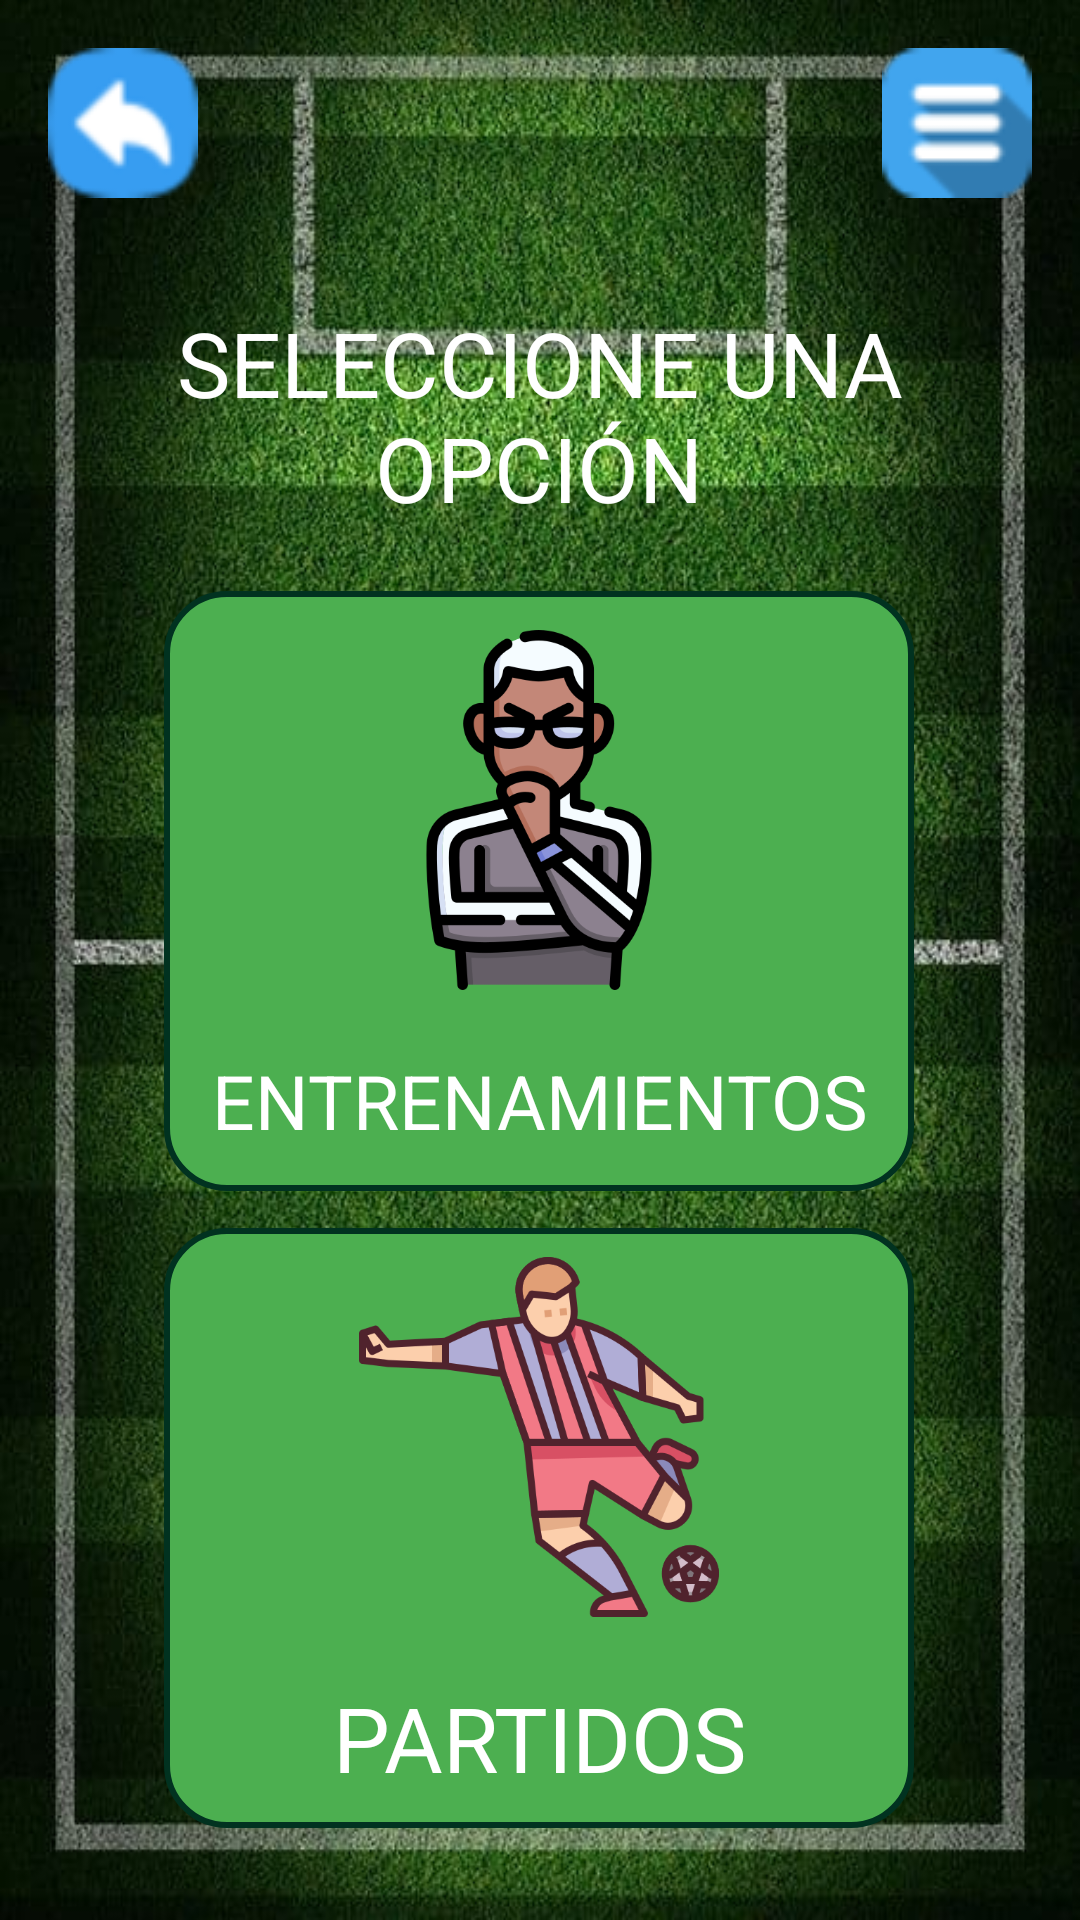

Locate icon controls on the screen. Image size 1080 × 1920, boxes as [left=x1, top=y1, right=x2, bottom=y2].
atras: [left=48, top=48, right=198, bottom=198]
burger menu: [left=882, top=48, right=1032, bottom=198]
disparar: [left=359, top=1257, right=719, bottom=1617]
entrenador: [left=426, top=630, right=652, bottom=990]
